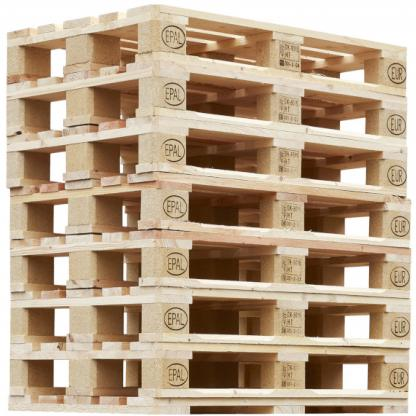BoxFace: (7, 5, 411, 92), (4, 72, 412, 141), (4, 346, 409, 399)
